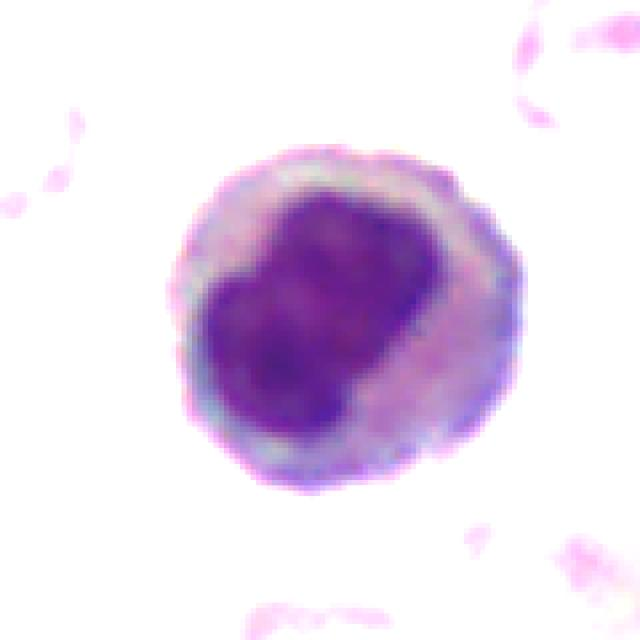WBC: (144, 133, 576, 512)
